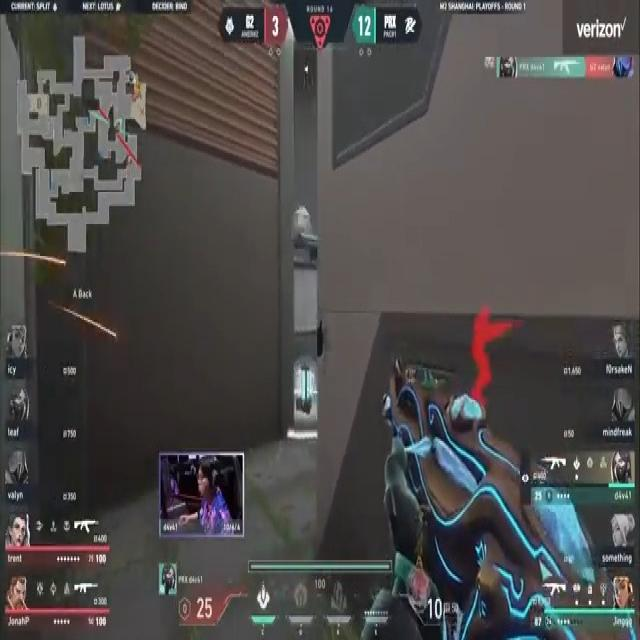enemy behind wall: (464, 300, 523, 410)
spike-planted: (292, 354, 316, 423)
